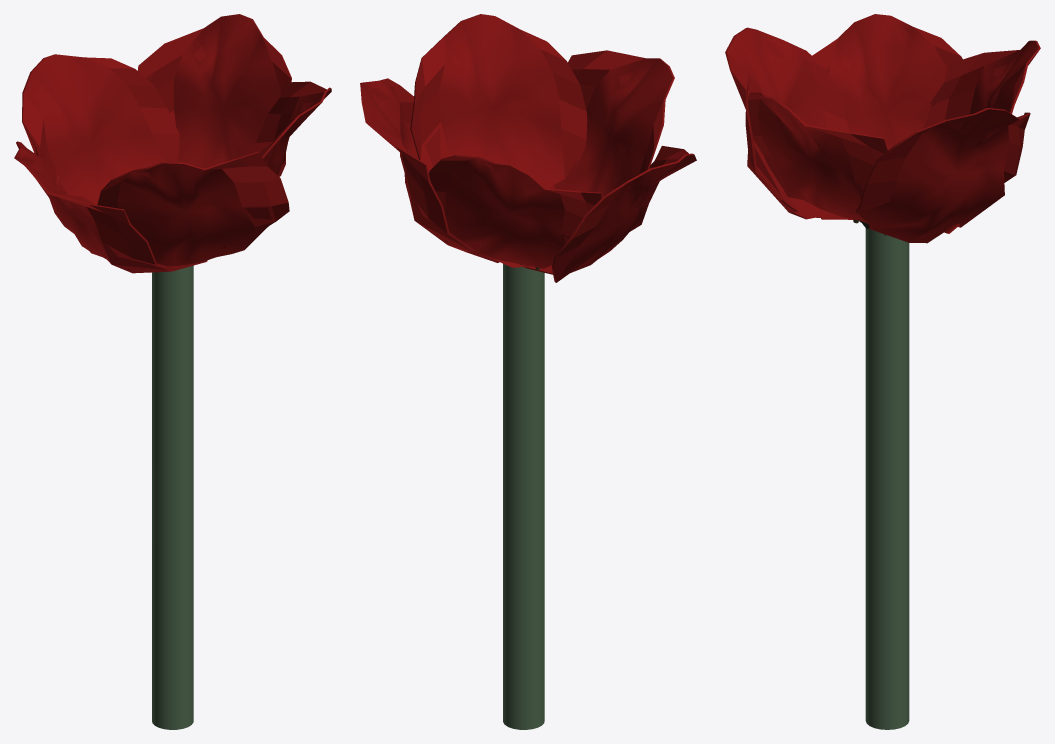
The model's file is poppy.obj.
3 renders of one model, left to right at view 1: azimuth 30°, elevation 25°; view 2: azimuth 150°, elevation 25°; view 3: azimuth 270°, elevation 25°, orthographic. The views are drawn at different scales.
Parts seen in each view (by area): view 1: stem3 poppy, poppy petals petal89, poppy petals petal90, poppy petals petal92, poppy petal88 petals, poppy petals petal91; view 2: poppy petals petal91, stem3 poppy, poppy petals petal89, poppy petals petal92, poppy petal88 petals, poppy petals petal90; view 3: stem3 poppy, poppy petals petal90, poppy petal88 petals, poppy petals petal91, poppy petals petal92, poppy petals petal89.
Boxes of the visible parts, x1=… form: stem3 poppy: x1=152, y1=265, x2=193, y2=729; poppy petals petal89: x1=22, y1=54, x2=179, y2=204; poppy petals petal90: x1=137, y1=14, x2=291, y2=176; poppy petals petal92: x1=97, y1=151, x2=289, y2=269; poppy petal88 petals: x1=14, y1=141, x2=207, y2=273; poppy petals petal91: x1=227, y1=81, x2=331, y2=247; poppy petals petal91: x1=410, y1=14, x2=587, y2=267; stem3 poppy: x1=503, y1=263, x2=544, y2=729; poppy petals petal89: x1=428, y1=155, x2=601, y2=268; poppy petals petal92: x1=553, y1=50, x2=674, y2=198; poppy petal88 petals: x1=521, y1=145, x2=696, y2=282; poppy petals petal90: x1=360, y1=78, x2=499, y2=262; stem3 poppy: x1=865, y1=228, x2=909, y2=729; poppy petals petal90: x1=855, y1=108, x2=1030, y2=243; poppy petal88 petals: x1=812, y1=14, x2=962, y2=219; poppy petals petal91: x1=747, y1=92, x2=888, y2=223; poppy petals petal92: x1=725, y1=27, x2=849, y2=219; poppy petals petal89: x1=923, y1=40, x2=1040, y2=233.
Bounding box in the file's own units: 1.56 × 3.43 × 1.46.
